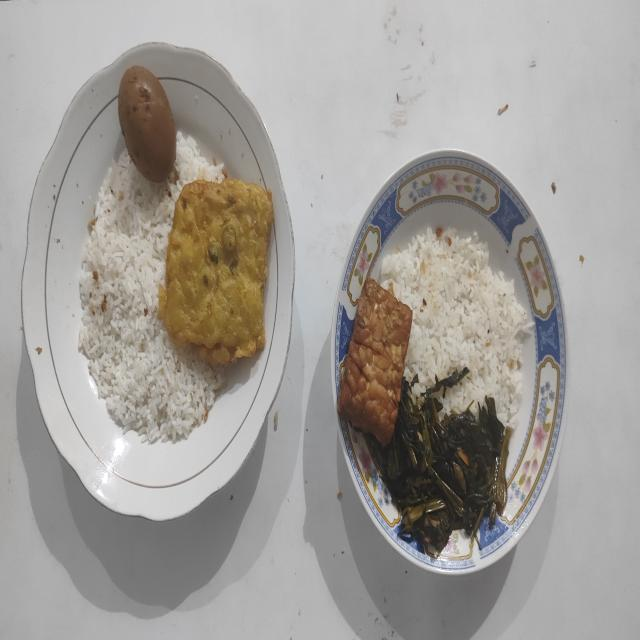nasi_putih: (78, 133, 224, 444), (381, 228, 532, 427)
tempe_goreng: (338, 277, 412, 445)
tumis_kangkung: (371, 368, 512, 556)
